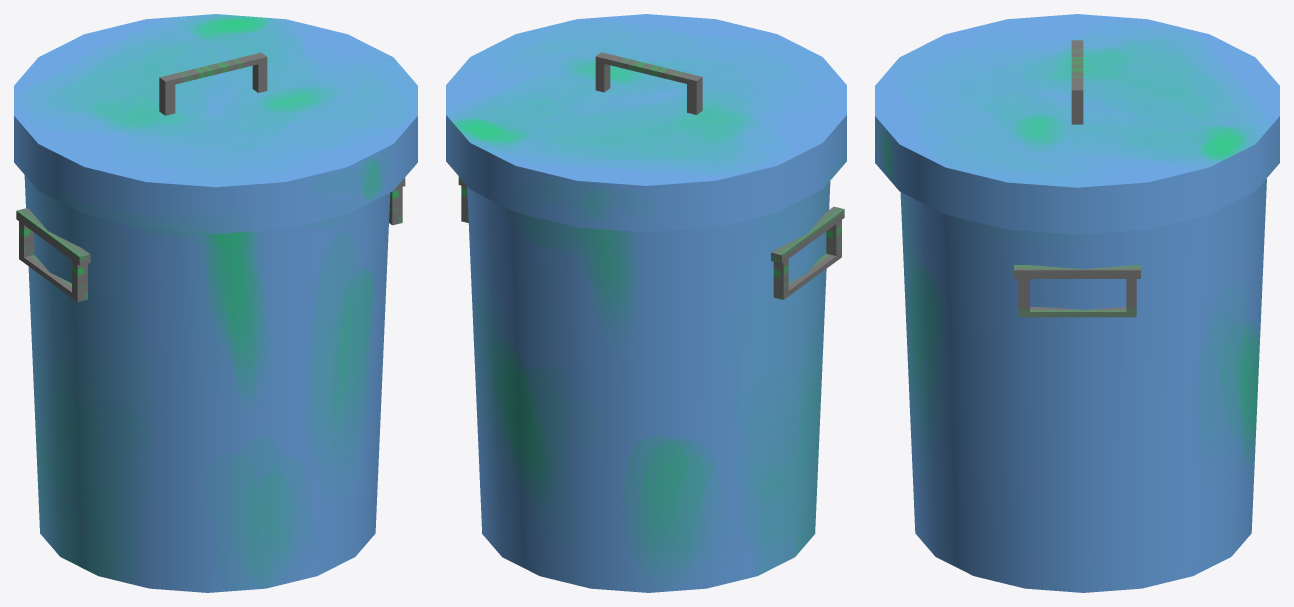
File: Wastebasket.FBX
3 views of the same model, side by side, from view 1: azimuth 30°, elevation 25°; view 2: azimuth 150°, elevation 25°; view 3: azimuth 270°, elevation 25° (orthographic).
Parts seen in each view (by area): view 1: wastebasket; view 2: wastebasket; view 3: wastebasket.
Boxes of the visible parts, x1,y1,x2,y2 form: wastebasket: (14,14,417,592); wastebasket: (446,14,846,592); wastebasket: (875,14,1279,592).
Bounding box in the file's own units: 1.33 × 1.31 × 1.63.
